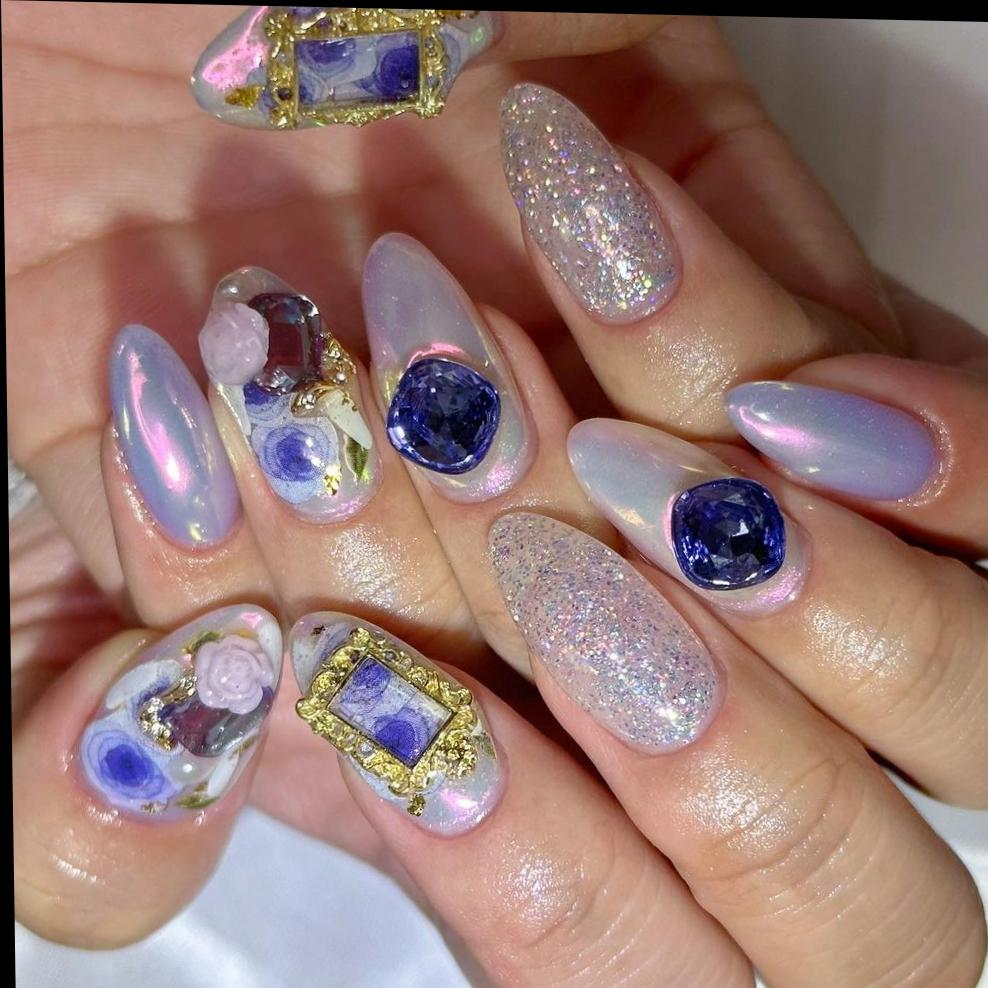nail: (482, 508, 726, 758), (286, 608, 507, 839), (563, 414, 812, 618), (357, 229, 537, 505), (74, 598, 285, 825), (494, 79, 683, 328), (198, 267, 378, 523), (186, 4, 501, 136), (105, 321, 242, 553), (721, 377, 940, 504)
